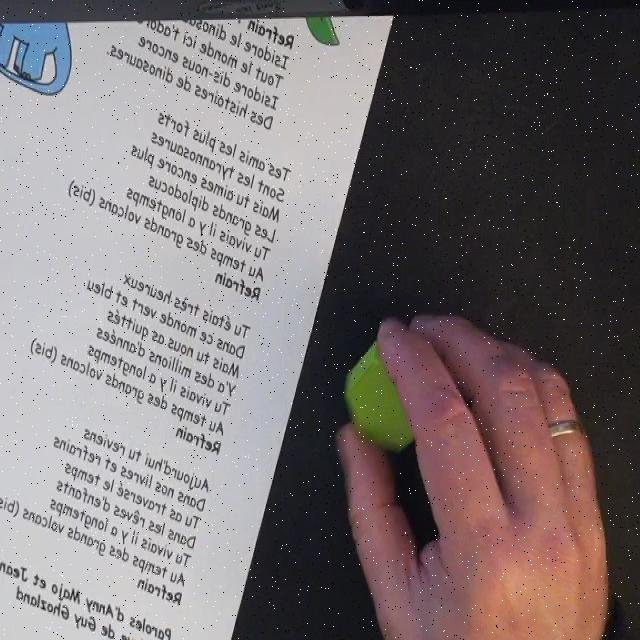hexagon: (343, 338, 432, 450)
